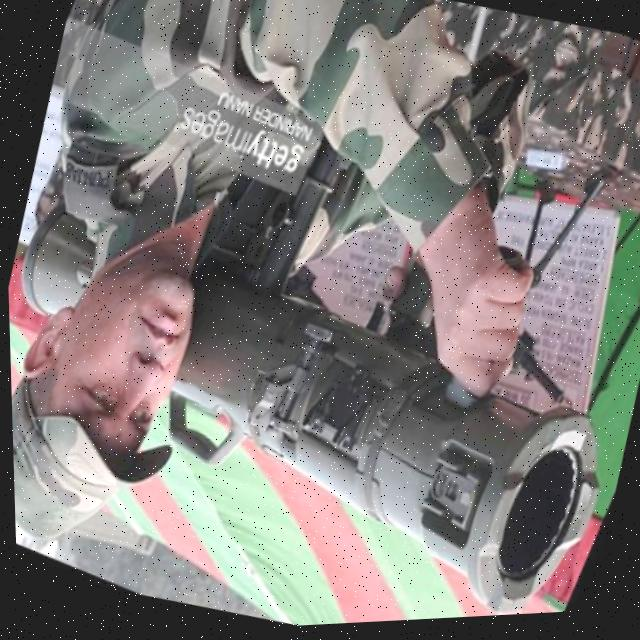rocket: (4, 158, 640, 640)
